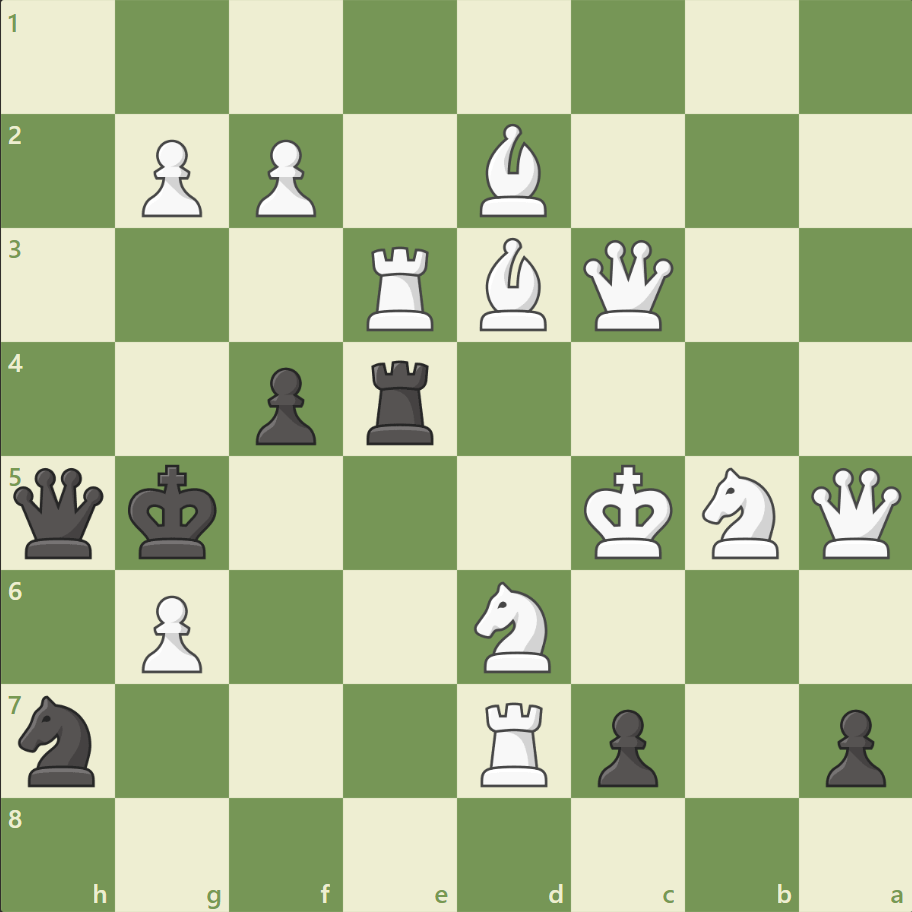B: (471, 233, 555, 336), (471, 120, 555, 222)
K: (579, 458, 679, 566)
N: (692, 461, 789, 564), (465, 575, 562, 677)
P: (133, 586, 208, 677), (247, 132, 322, 223), (133, 132, 208, 223)
Q: (805, 463, 904, 562), (578, 236, 677, 335)
R: (473, 693, 556, 790), (360, 239, 442, 336)
k: (124, 458, 224, 566)
n: (11, 688, 108, 791)
p: (247, 359, 322, 450), (815, 700, 889, 791), (588, 700, 662, 791)
q: (10, 463, 109, 562)
r: (360, 352, 442, 449)
